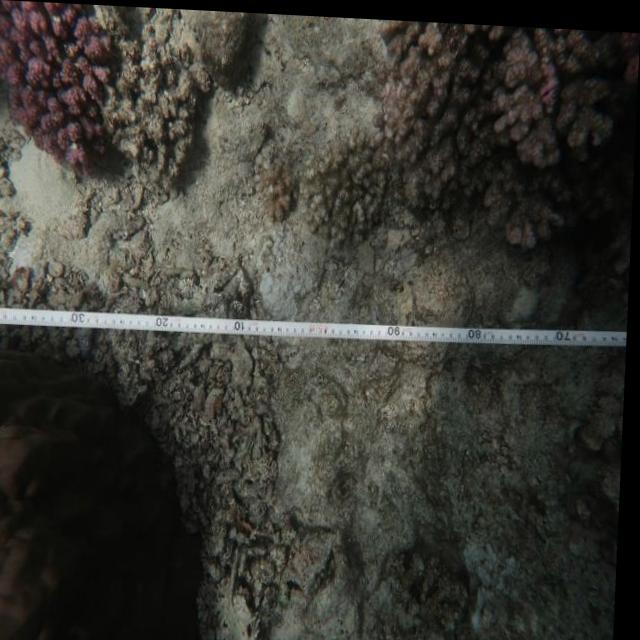Healthy Coral: (0, 3, 117, 183)
